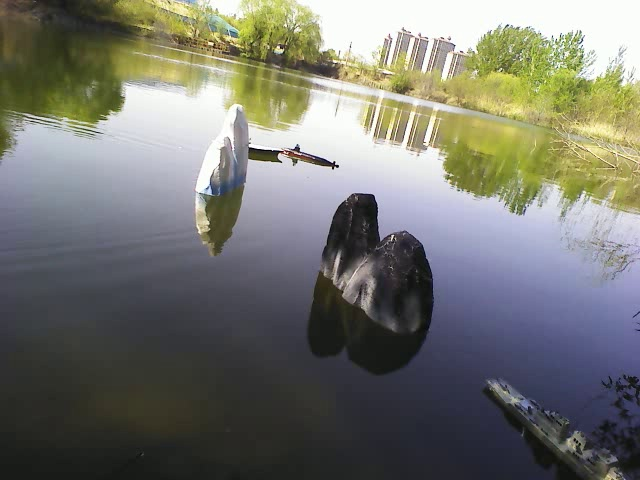aircraft_carrier: (249, 136, 286, 168)
iceberg: (193, 100, 254, 198)
rock: (316, 192, 439, 336)
submarine: (281, 143, 341, 174)
warship: (481, 370, 630, 477)
